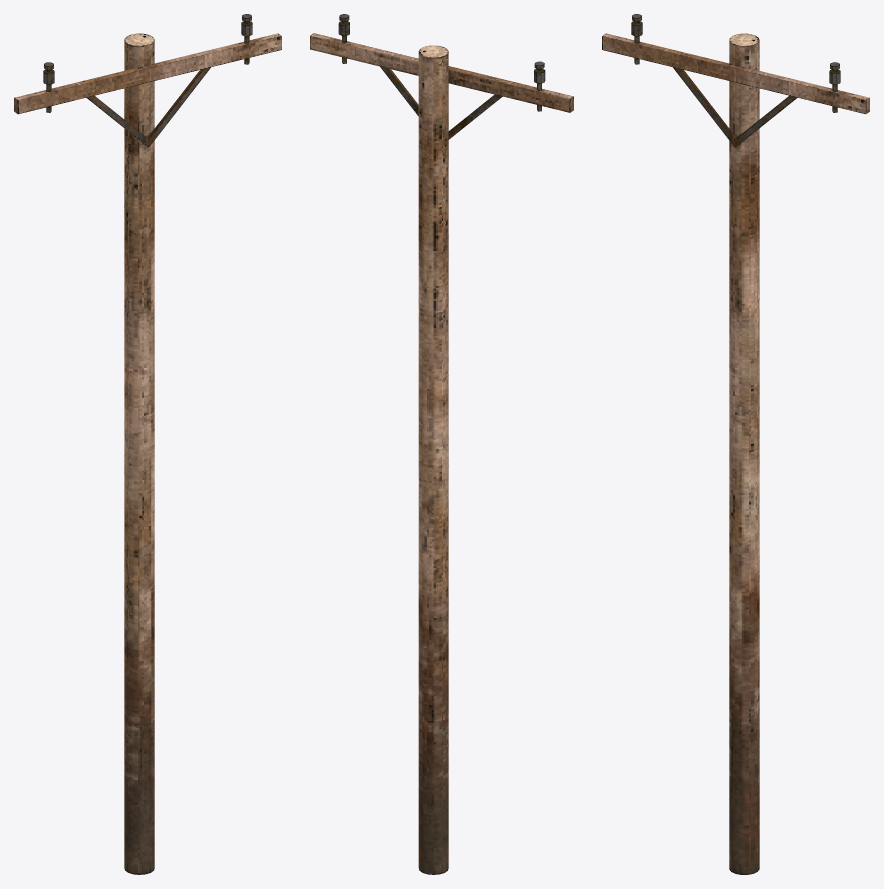
The model's file is E_Pole_3.glb.
3 views of the same model, side by side, from view 1: azimuth 30°, elevation 25°; view 2: azimuth 150°, elevation 25°; view 3: azimuth 330°, elevation 25° (orthographic).
Visible parts, largest first — view 1: E_Pole_3; view 2: E_Pole_3; view 3: E_Pole_3.
Boxes of the visible parts, bbox=[...] form: E_Pole_3: bbox=[14, 14, 281, 874]; E_Pole_3: bbox=[310, 14, 573, 874]; E_Pole_3: bbox=[602, 14, 869, 874].
Size of the model in its own units: 2 by 6.04 by 0.2489.
1 material, 1 textured.
